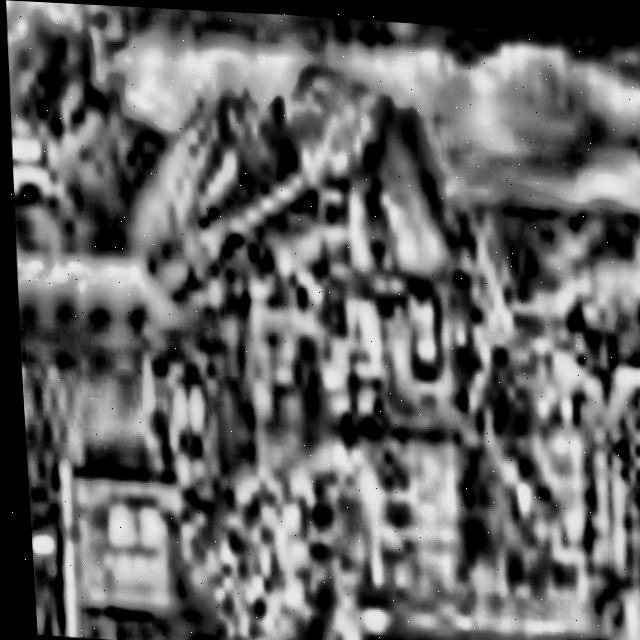dump_truck: (7, 152, 234, 640)
